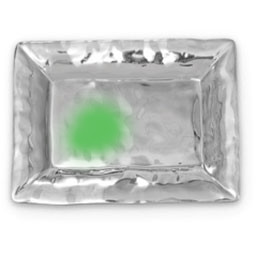focus: (58, 97, 125, 157)
